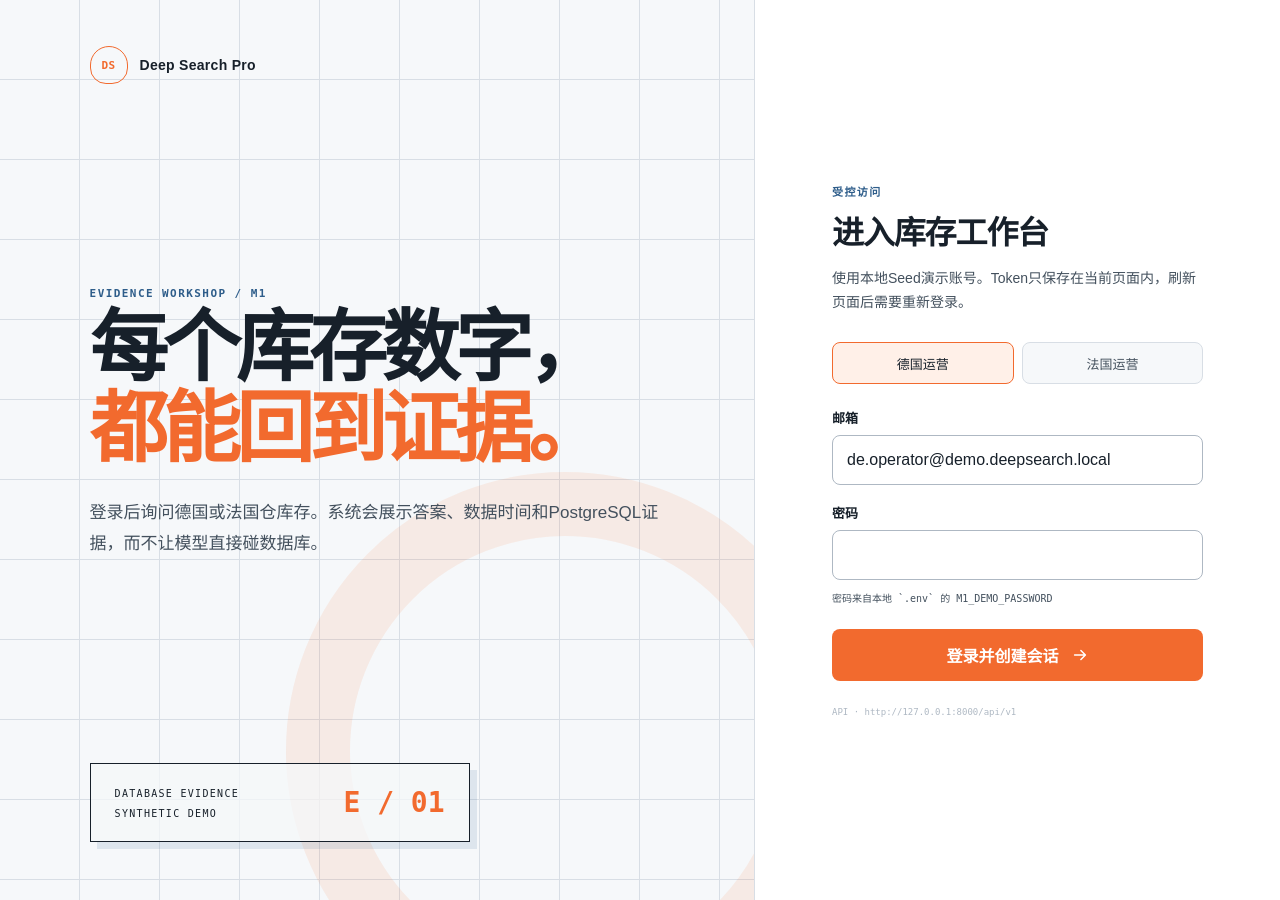
Test case: InventoryWorkbench › shows a safe permission error without an inventory number
The image size is (1280, 900).
Type "M1-demo-only-change-me" into the password field labelled "密码" at [1018, 555], box [832,530,1203,580]
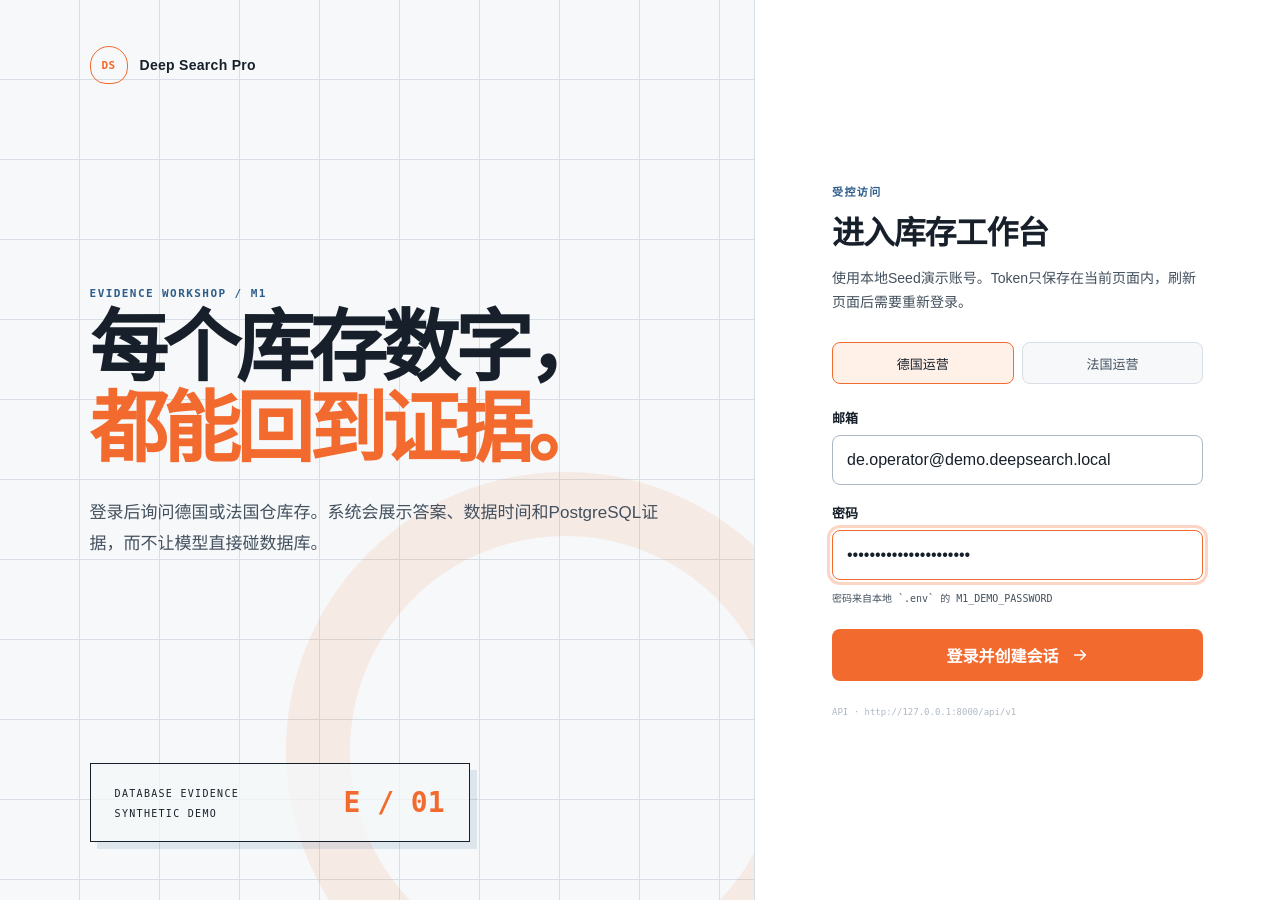
Click the button "登录并创建会话" at [1018, 655], box [832,629,1203,681]
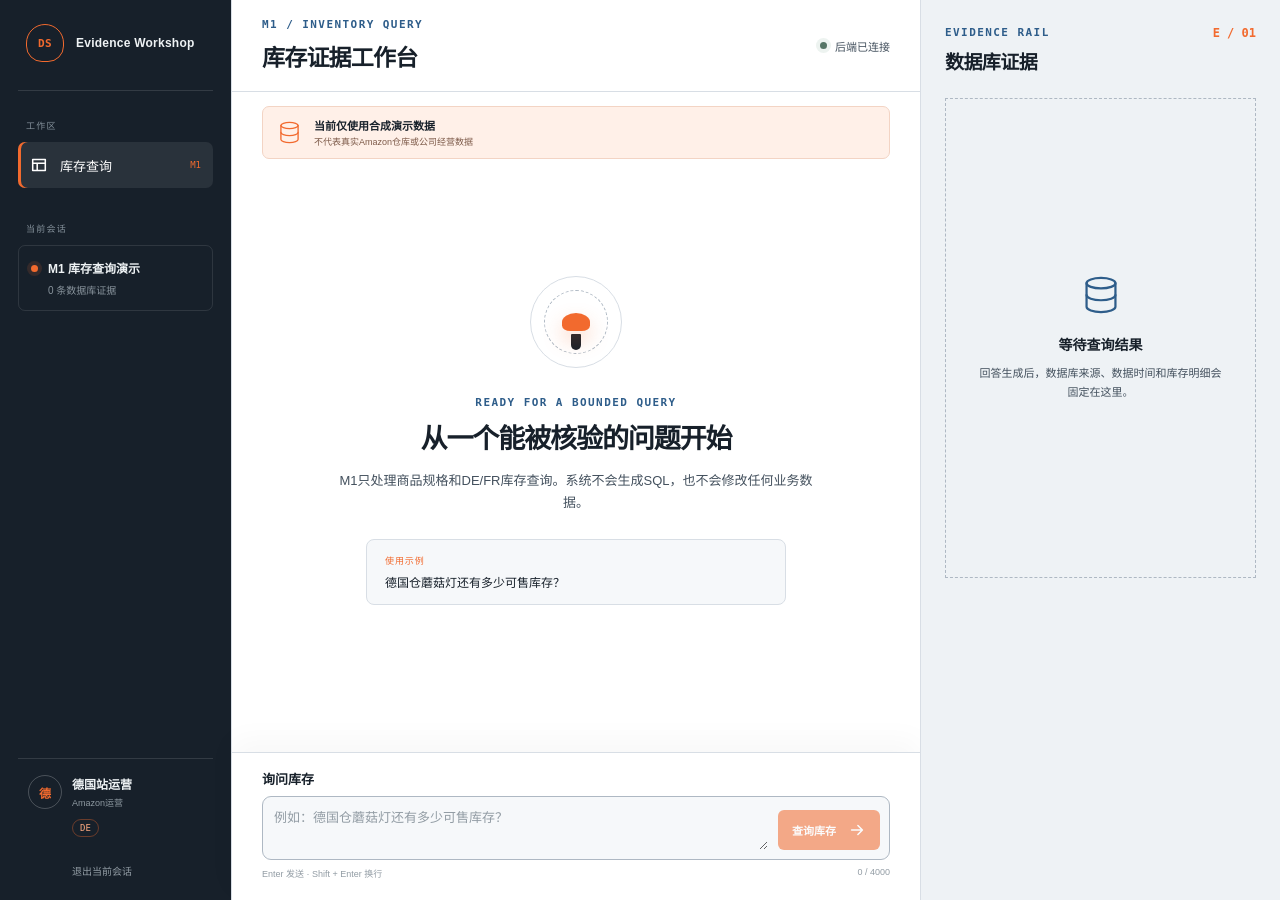
Expected: the heading "库存证据工作台" is shown, [262,39,423,73]
Type "法国仓蘑菇灯还有多少库存？" into the text box labelled "询问库存" at [520, 828], box [272,806,768,850]
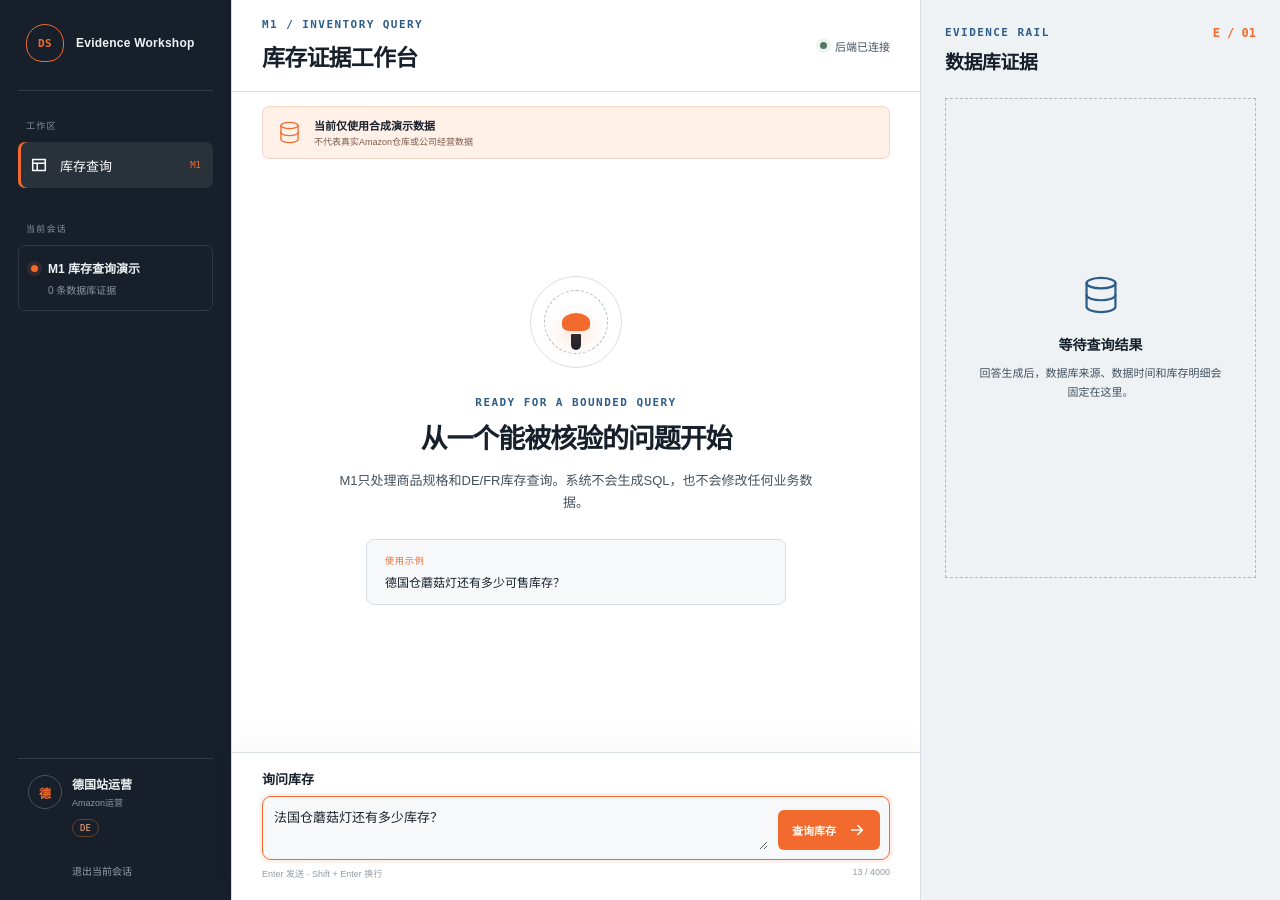
Press Enter in the text box labelled "询问库存", box [272,806,768,850]
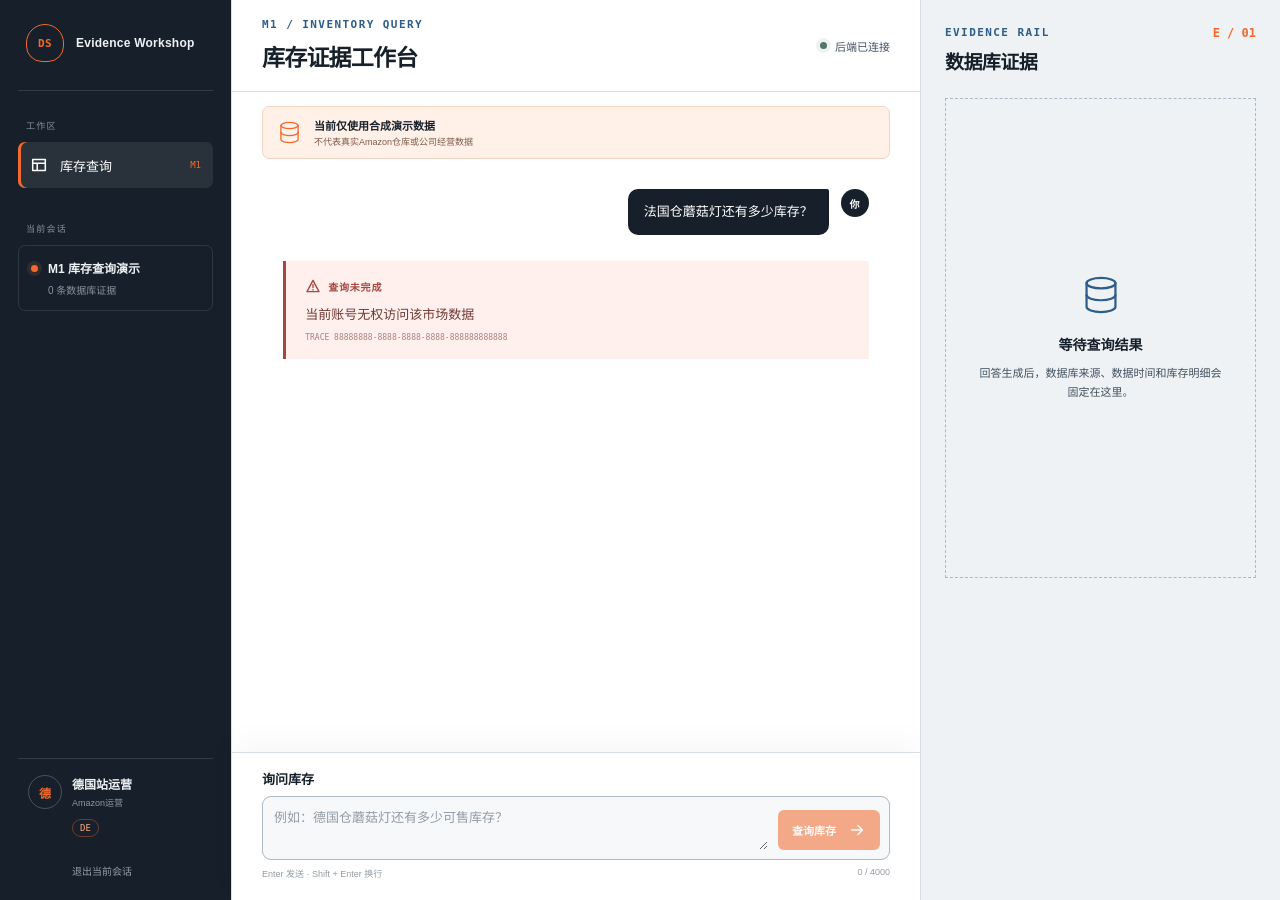
Expected: the text "当前账号无权访问该市场数据" is shown, [305,307,474,322]
Expected: the text "TRACE 88888888-8888-8888-8888-888888888888" is shown, [305,333,508,342]
